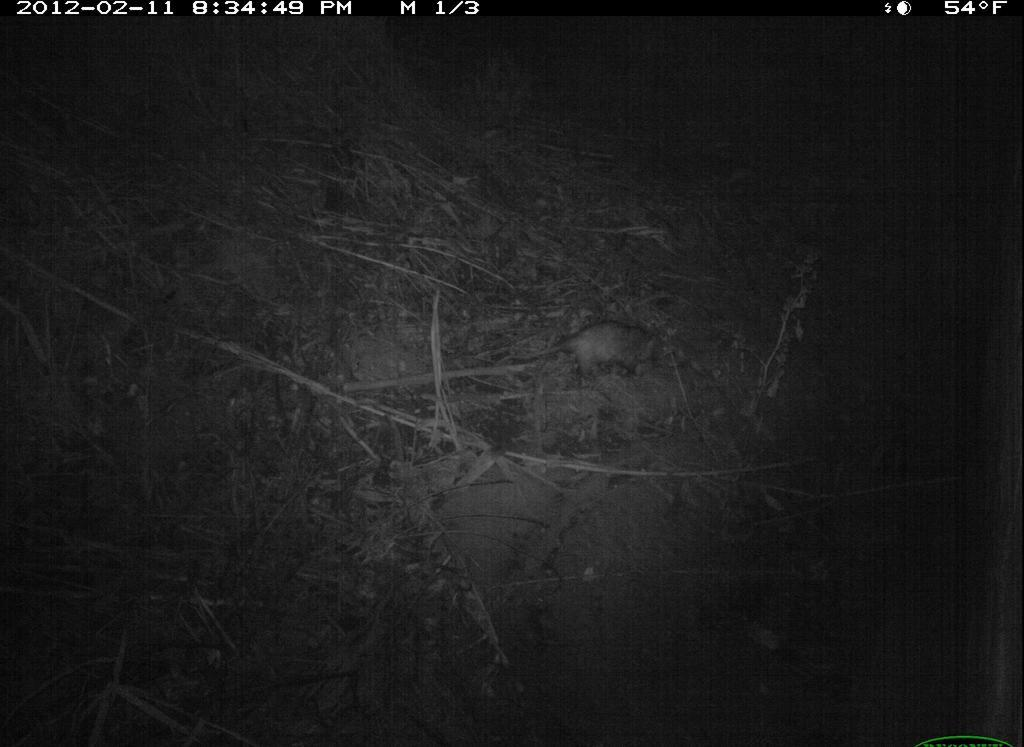opossum: (520, 319, 670, 395)
